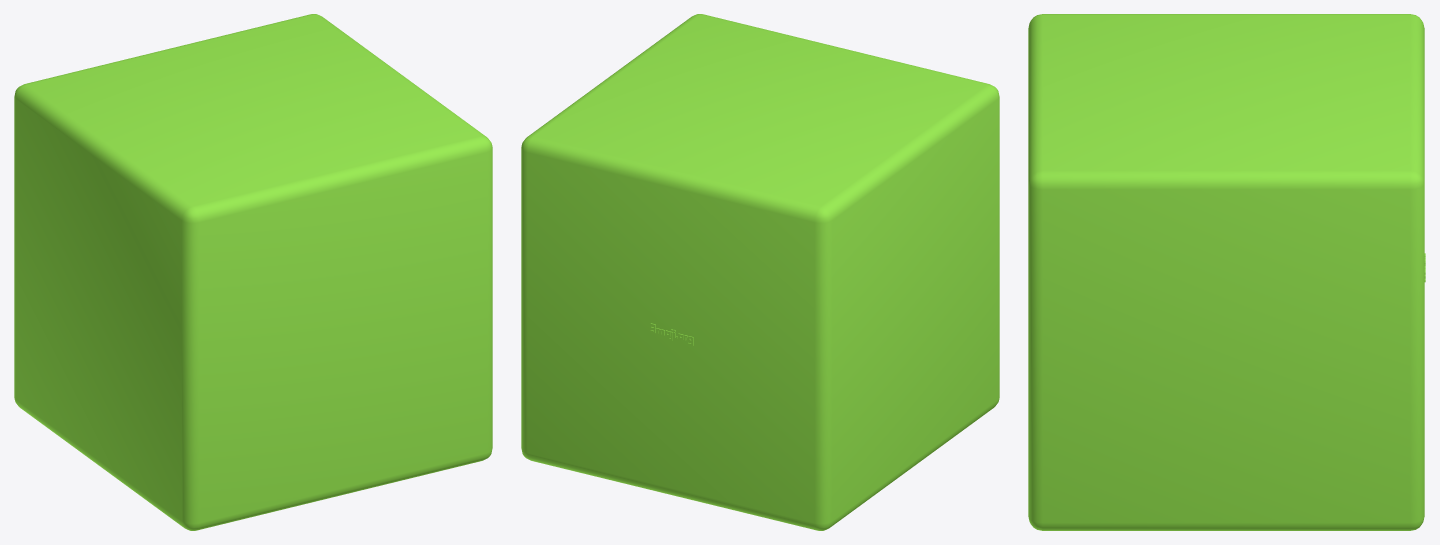
File: green_square.gltf
3 renders of one model, left to right at view 1: azimuth 30°, elevation 25°; view 2: azimuth 150°, elevation 25°; view 3: azimuth 270°, elevation 25°, orthographic. The views are drawn at different scales.
Parts seen in each view (by area): view 1: green square; view 2: green square; view 3: green square.
Boxes of the visible parts, <box> form: green square: <box>14,14,492,530</box>; green square: <box>521,14,999,530</box>; green square: <box>1028,14,1425,530</box>.
Size of the model in its own units: 1.92 by 1.92 by 1.92.
Materials: 1 (1 with a texture image).
